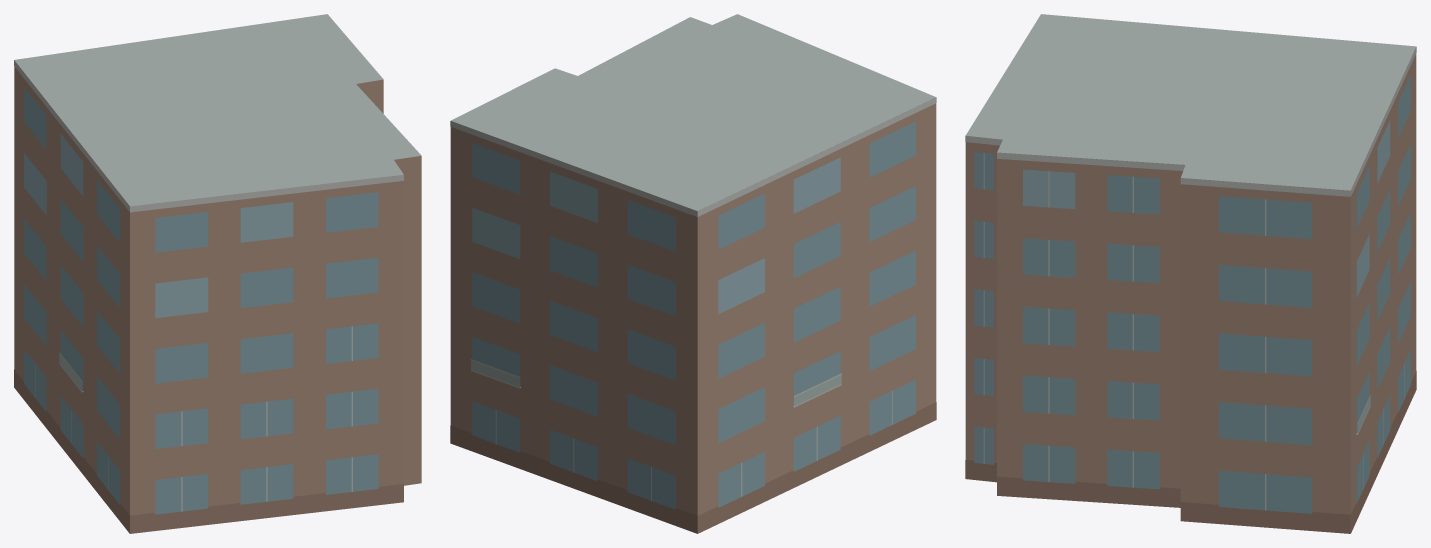
File: survey-upis-32984757.glb
The picture shows the model from 3 angles, left to right: view 1: azimuth 30°, elevation 25°; view 2: azimuth 150°, elevation 25°; view 3: azimuth 270°, elevation 25°; orthographic projection. The views are drawn at different scales.
Parts seen in each view (by area): view 1: survey-upis-32984757.tmp; view 2: survey-upis-32984757.tmp; view 3: survey-upis-32984757.tmp.
Boxes of the visible parts, x1,y1,x2,y2 form: survey-upis-32984757.tmp: [14, 14, 421, 533]; survey-upis-32984757.tmp: [450, 14, 936, 533]; survey-upis-32984757.tmp: [965, 14, 1416, 533].
Bounding box in the file's own units: 14.69 × 13.3 × 15.85.
